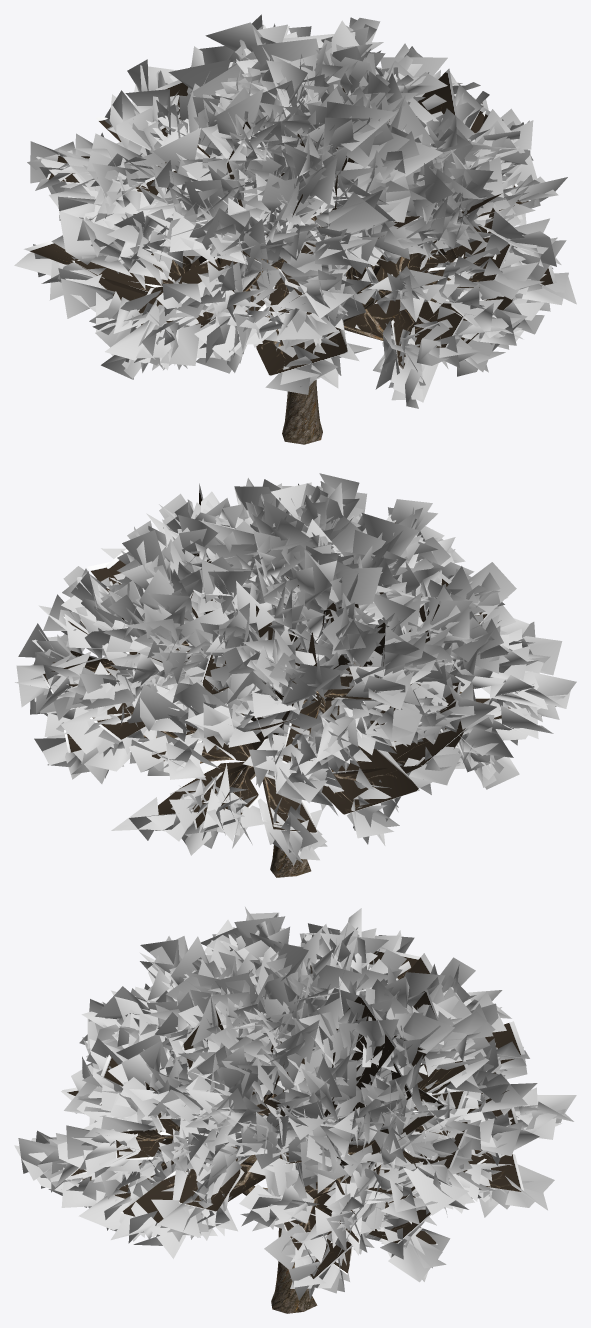
The model's file is readytree1.fbx.
3 views of the same model, one above another, from view 1: azimuth 30°, elevation 25°; view 2: azimuth 150°, elevation 25°; view 3: azimuth 270°, elevation 25° (orthographic). The views are drawn at different scales.
Parts seen in each view (by area): view 1: Bark_9, Leaf_6.4516, Leaf_6.4506, Leaf_6.3780, Leaf_6.2340, Leaf_6.3365, Leaf_6.4478, Leaf_6.3715, Leaf_6.4110, Leaf_6.3745, Leaf_6.3015, Leaf_6.3340 (+57 smaller); view 2: Leaf_6.4454, Leaf_6.4493, Leaf_6.2870, Leaf_6.3340, Leaf_6.4487, Leaf_6.3060, Leaf_6.3655, Leaf_6.3210, Leaf_6.4491, Bark_9, Leaf_6.3635, Leaf_6.3195 (+62 smaller); view 3: Bark_9, Leaf_6.4480, Leaf_6.3155, Leaf_6.4443, Leaf_6.4529, Leaf_6.3955, Leaf_6.3070, Leaf_6.4491, Leaf_6.4474, Leaf_6.3820, Leaf_6.3615, Leaf_6.4483 (+41 smaller).
Part boxes in pixels (x1,y1,x2,y2): Bark_9: (255, 218, 436, 444); Leaf_6.4516: (355, 299, 466, 347); Leaf_6.4506: (256, 319, 347, 375); Leaf_6.3780: (59, 211, 116, 264); Leaf_6.2340: (326, 101, 396, 151); Leaf_6.3365: (324, 192, 388, 239); Leaf_6.4478: (395, 235, 511, 281); Leaf_6.3715: (184, 178, 244, 218); Leaf_6.4110: (250, 38, 318, 66); Leaf_6.3745: (61, 278, 115, 318); Leaf_6.3015: (369, 132, 442, 181); Leaf_6.3340: (215, 89, 263, 138); Leaf_6.4454: (322, 746, 419, 814); Leaf_6.4493: (332, 727, 468, 774); Leaf_6.2870: (335, 567, 382, 605); Leaf_6.3340: (362, 513, 418, 567); Leaf_6.4487: (262, 776, 317, 833); Leaf_6.3060: (61, 706, 107, 754); Leaf_6.3655: (129, 684, 186, 723); Leaf_6.3210: (226, 581, 274, 631); Leaf_6.4491: (158, 762, 255, 814); Bark_9: (245, 666, 461, 877); Leaf_6.3635: (409, 753, 462, 785); Leaf_6.3195: (365, 706, 422, 745); Bark_9: (164, 1089, 332, 1313); Leaf_6.4480: (121, 1163, 265, 1222); Leaf_6.3155: (403, 1167, 468, 1215); Leaf_6.4443: (319, 993, 396, 1109); Leaf_6.4529: (284, 1193, 352, 1280); Leaf_6.3955: (388, 1236, 442, 1282); Leaf_6.3070: (403, 1012, 454, 1053); Leaf_6.4491: (474, 1149, 523, 1191); Leaf_6.4474: (179, 1168, 244, 1211); Leaf_6.3820: (78, 1189, 129, 1230); Leaf_6.3615: (505, 1164, 554, 1207); Leaf_6.4483: (115, 1129, 164, 1159).
Bounding box in the file's own units: 8459 × 6479 × 8750.
